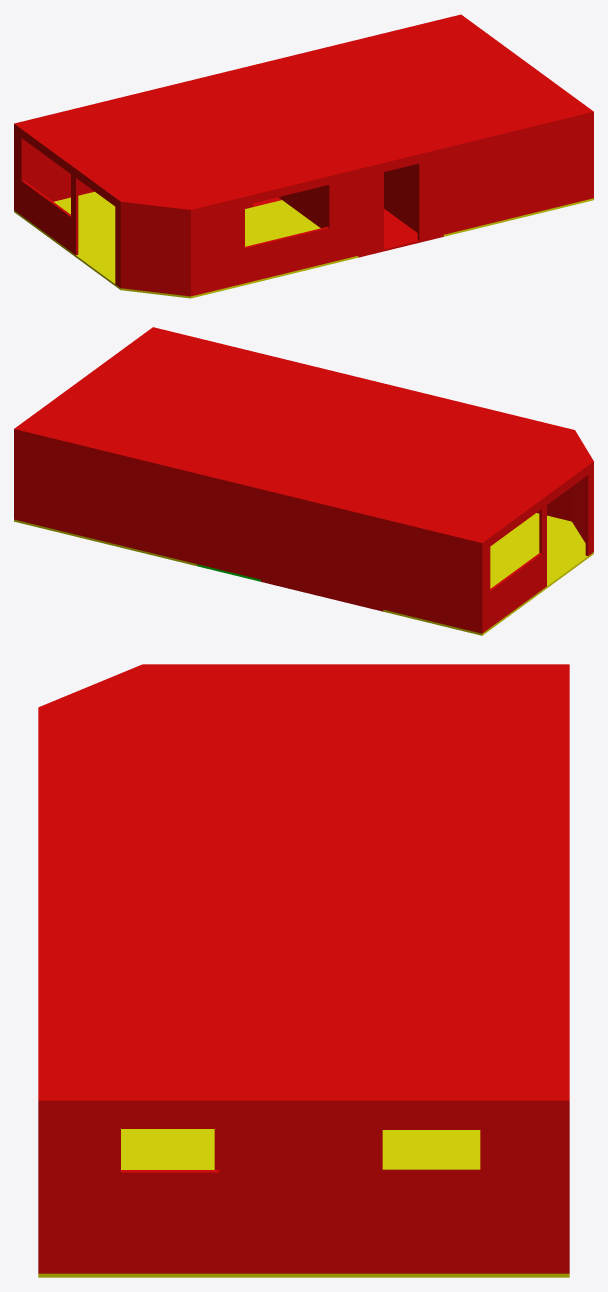
Rendered from val_house_02_grp.fbx.
The picture shows the model from 3 angles, top to bottom: view 1: azimuth 30°, elevation 25°; view 2: azimuth 150°, elevation 25°; view 3: azimuth 270°, elevation 25°; orthographic projection. The views are drawn at different scales.
Visible parts, largest first — view 1: val_house_02_ceiling, val_house_02_walls, val_house_02_floor; view 2: val_house_02_ceiling, val_house_02_walls, val_house_02_floor; view 3: val_house_02_ceiling, val_house_02_walls, val_house_02_floor.
Part boxes in pixels (x1=…): val_house_02_ceiling: x1=14, y1=14, x2=593, y2=211; val_house_02_walls: x1=14, y1=114, x2=593, y2=296; val_house_02_floor: x1=14, y1=191, x2=593, y2=298; val_house_02_ceiling: x1=14, y1=327, x2=593, y2=544; val_house_02_walls: x1=14, y1=431, x2=593, y2=633; val_house_02_floor: x1=14, y1=513, x2=593, y2=635; val_house_02_ceiling: x1=38, y1=664, x2=569, y2=1104; val_house_02_walls: x1=38, y1=1104, x2=569, y2=1273; val_house_02_floor: x1=38, y1=1129, x2=569, y2=1277.
Bounding box in the file's own units: 1252 × 237 × 644.
